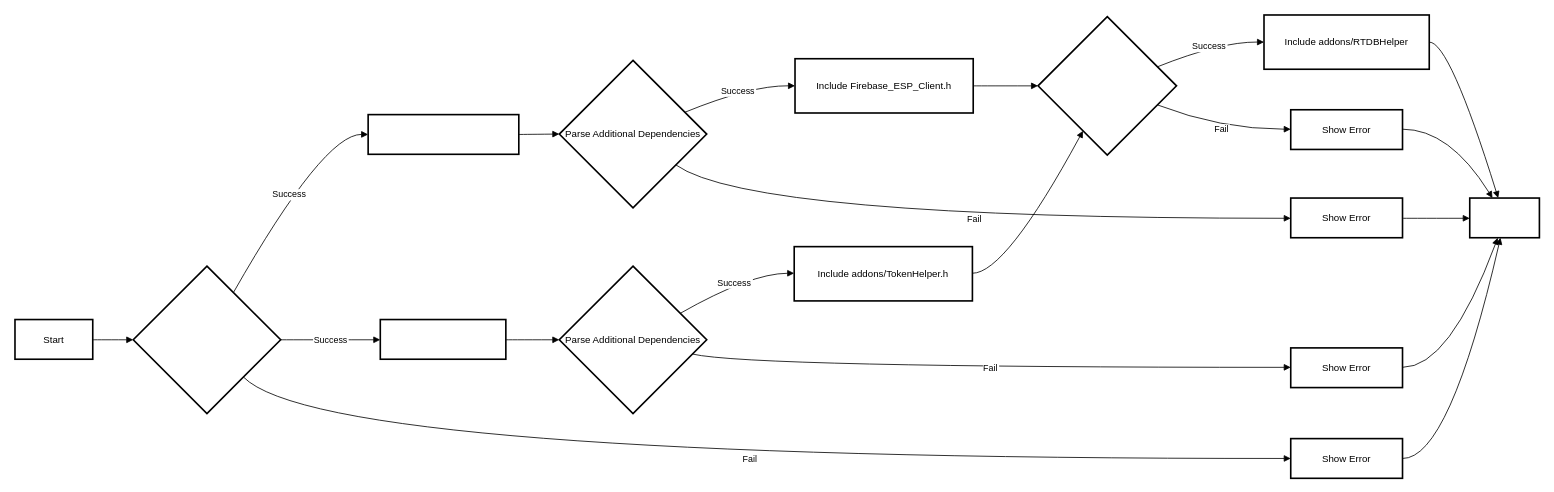
The diagram is 1554 pixels wide and 492 high, and some of its shapes have lost their labels. Here are the shapes that lost their labels. From the top down, the centre of each, then its label:
At (1107,85): "Parse Optional Dependencies".
At (443,134): "Include Arduino.h".
At (1504,217): "End".
At (206,339): "Parse Header Files".
At (442,339): "Include env.h".
